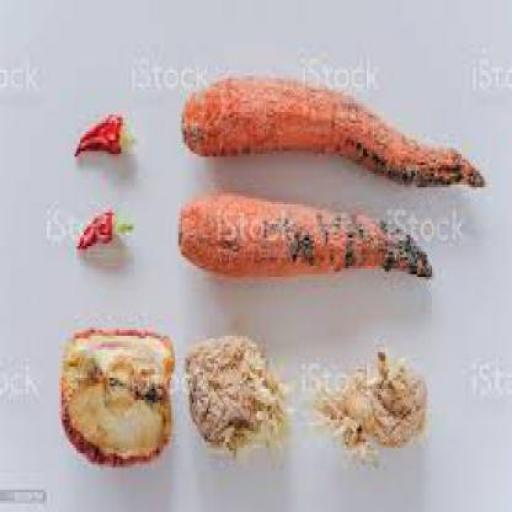biodegradable: (178, 72, 482, 184), (177, 190, 430, 278), (56, 322, 175, 467), (184, 330, 289, 454), (335, 342, 423, 454), (72, 112, 136, 156), (76, 210, 132, 249)
